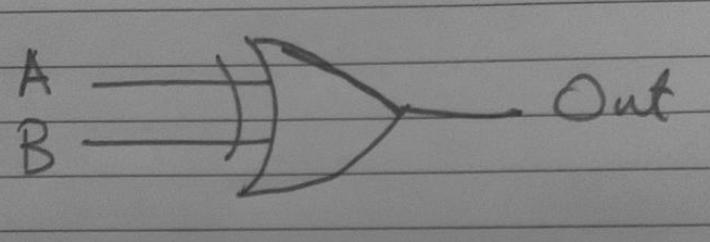XOR: (207, 20, 422, 211)
